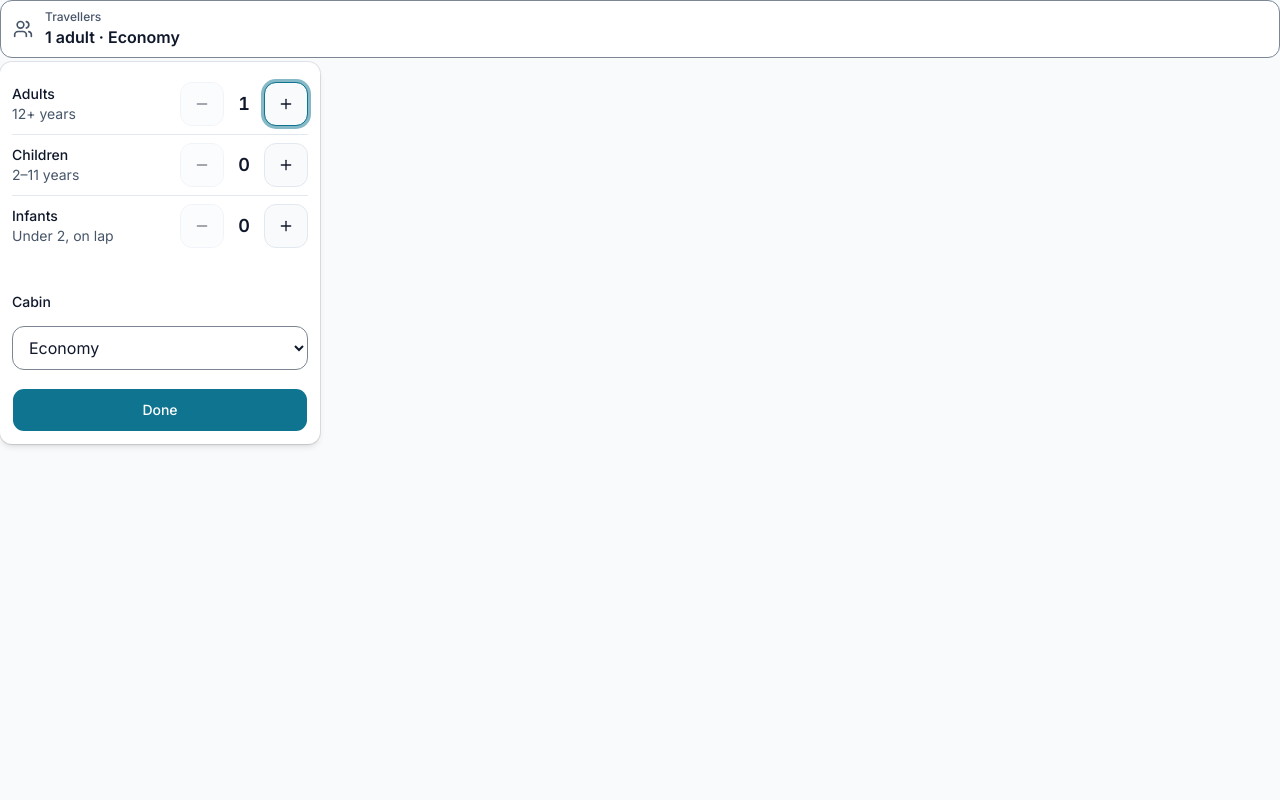
Test: PassengerPicker › enforces the infant-per-adult rule with an inline hint
This screenshot has width=1280, height=800.
Click the button named "Add one: Infants" at (286, 226), box [264,204,308,248]
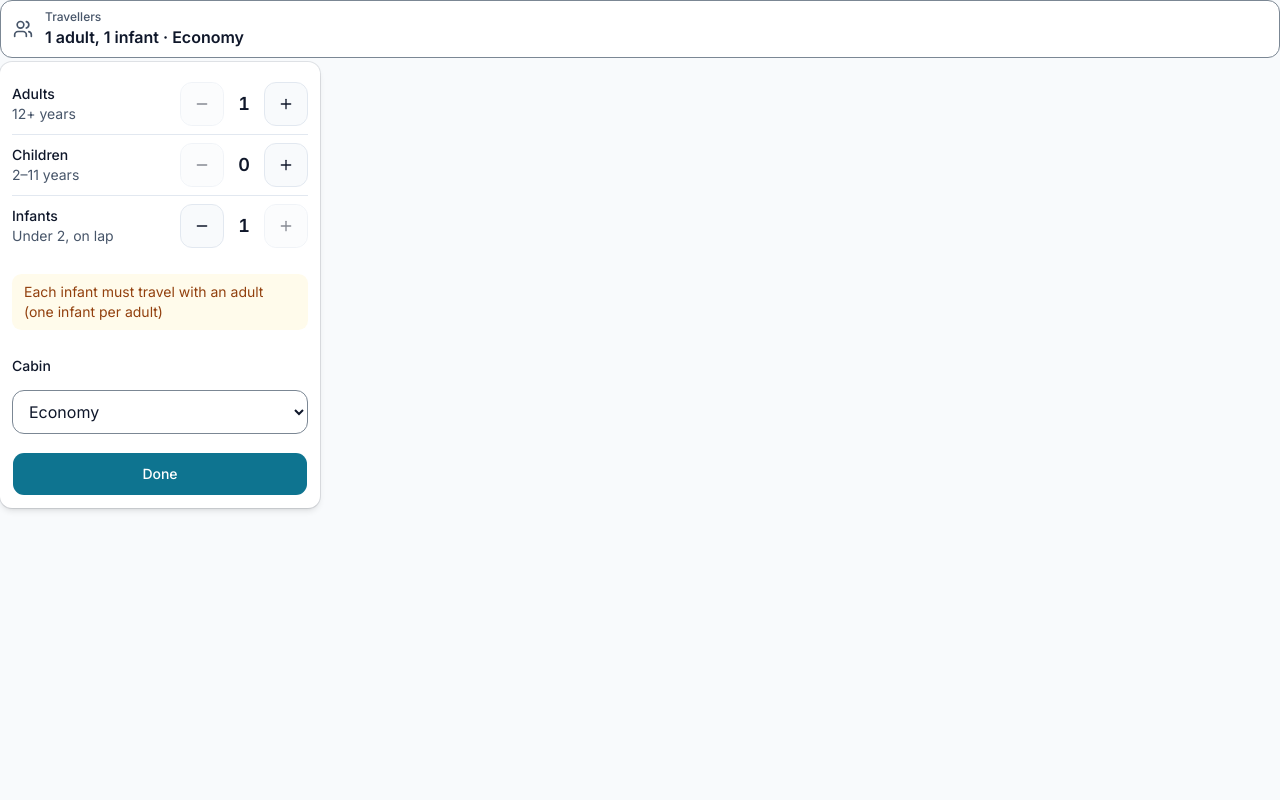
Expected: the button named "Add one: Infants" is disabled, [264,204,308,248]
Expected: the text "Each infant must travel with an adult (one infant per adult)" is shown, [12,274,308,330]
A second adult lifts the limit.
Click the button named "Add one: Adults" at (286, 104), box [264,82,308,126]
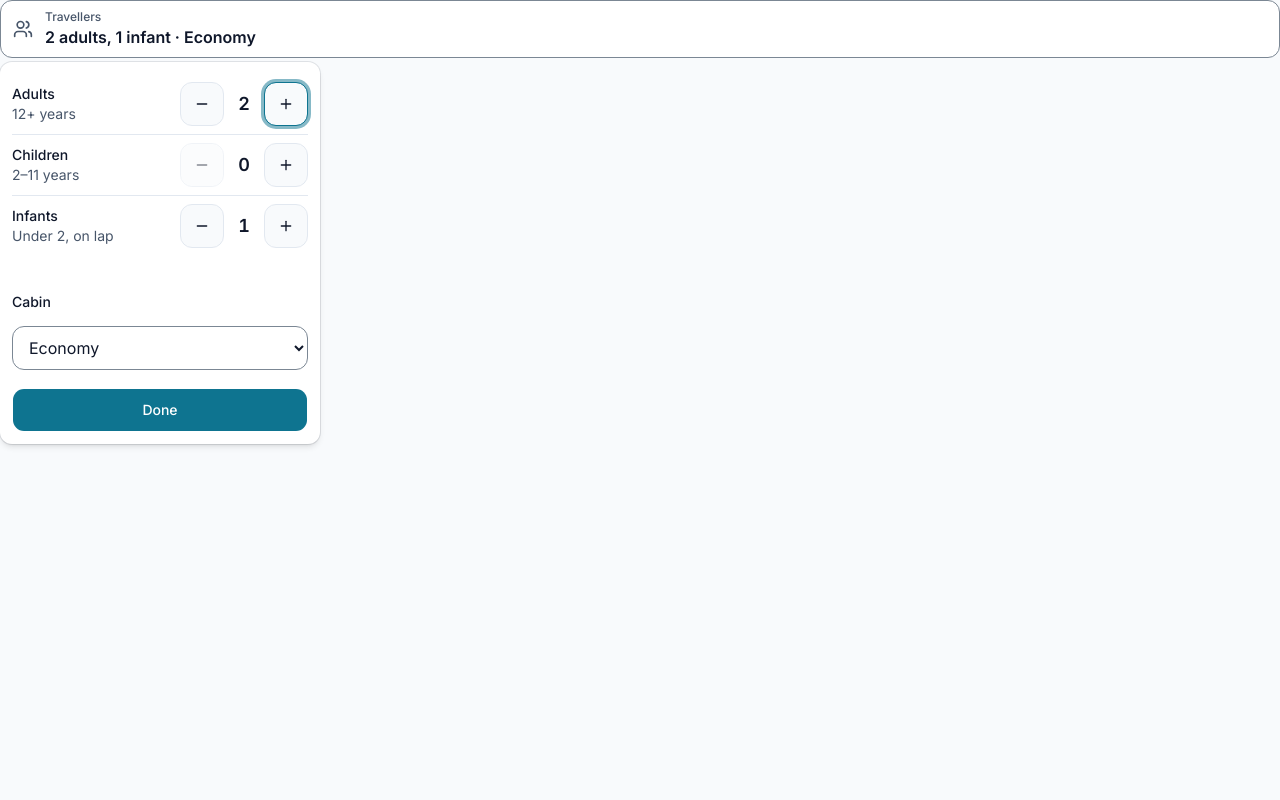
Expected: the button named "Add one: Infants" is enabled, [264,204,308,248]
